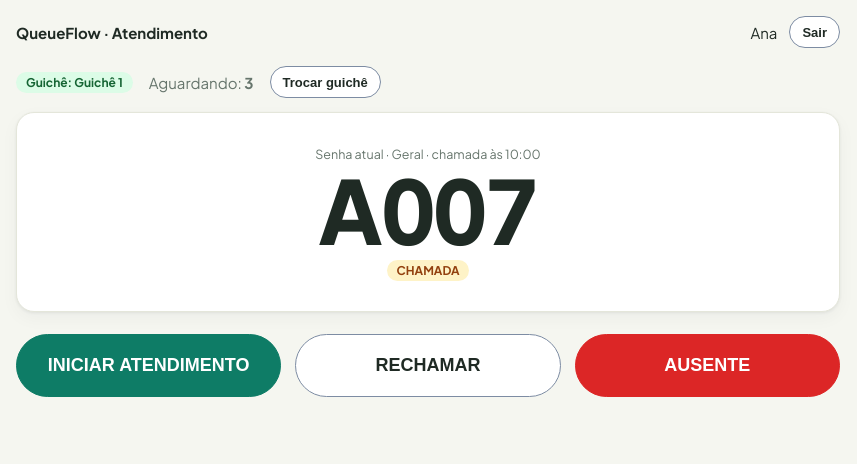
Scenario: AttendantScreen synchronization failures › keeps an action failure visible even when resynchronization succeeds
Expected: the text "A007" is shown, [318,154,538,265]
Click the button "RECHAMAR" at (428, 365), box [295,334,561,397]
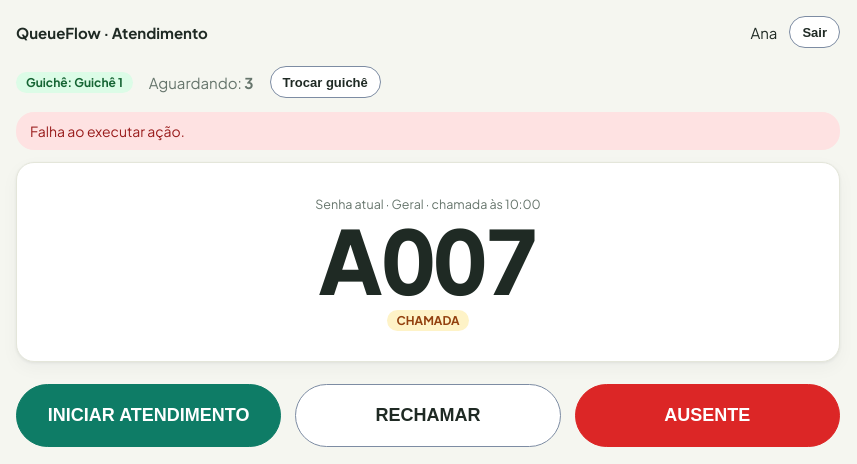
Expected: the button "RECHAMAR" is enabled, [295,384,561,447]
Expected: the message reads "Falha ao executar ação.", [30,122,185,140]
